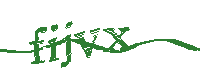f: (30, 26, 46, 63)
i: (49, 25, 59, 63)
j: (61, 21, 73, 70)
v: (75, 27, 102, 60)
x: (104, 26, 132, 52)
